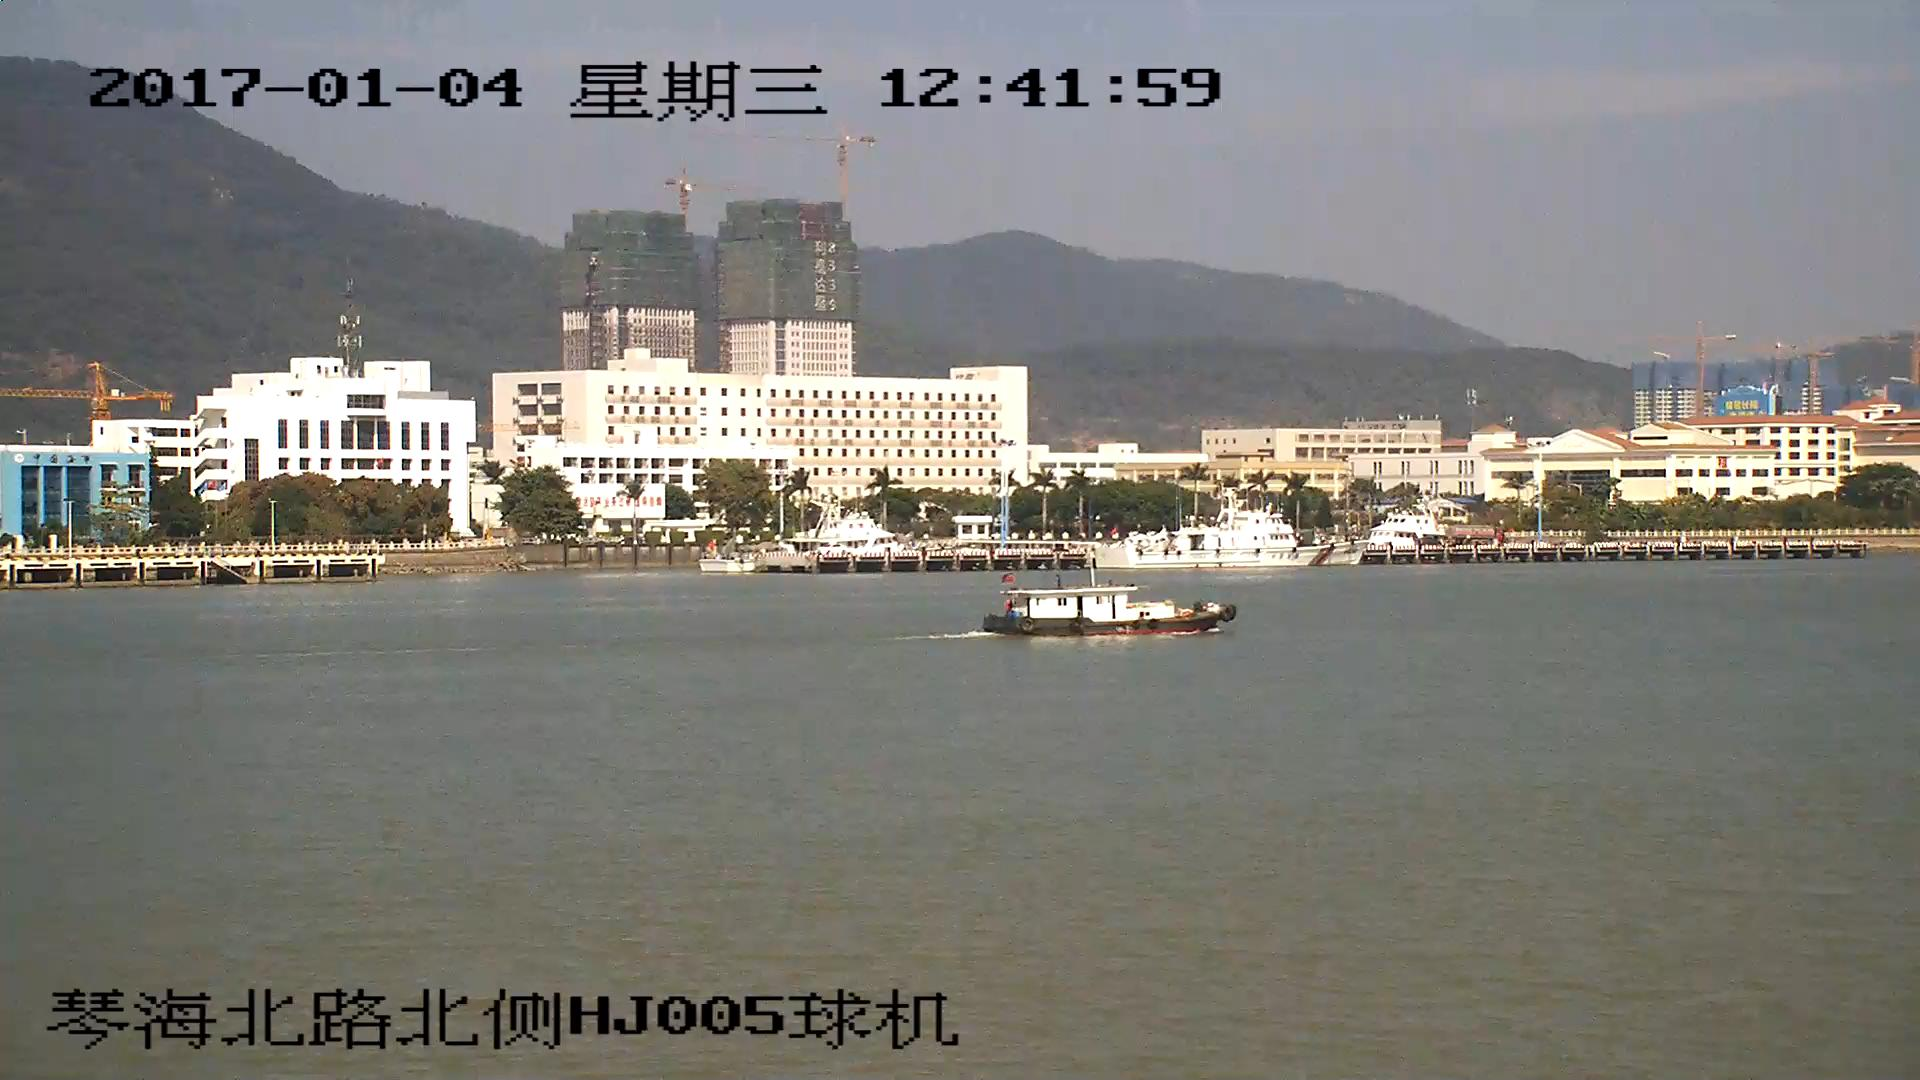fishing boat: (991, 575, 1236, 640)
